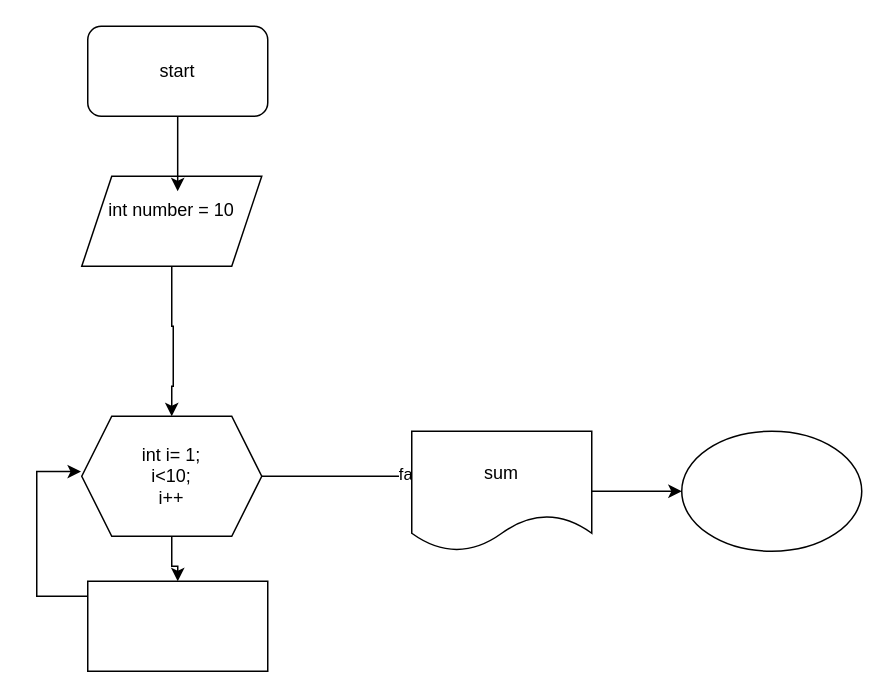
Image size: 888x698. Some labels were removed from this diagram. The shapes that lost their labels are listed below. From the top down, each one's box as (x1, y1, x2, y2) in pixels, then its label:
(680, 430, 862, 551): end
(86, 580, 268, 671): sum=sum*i
